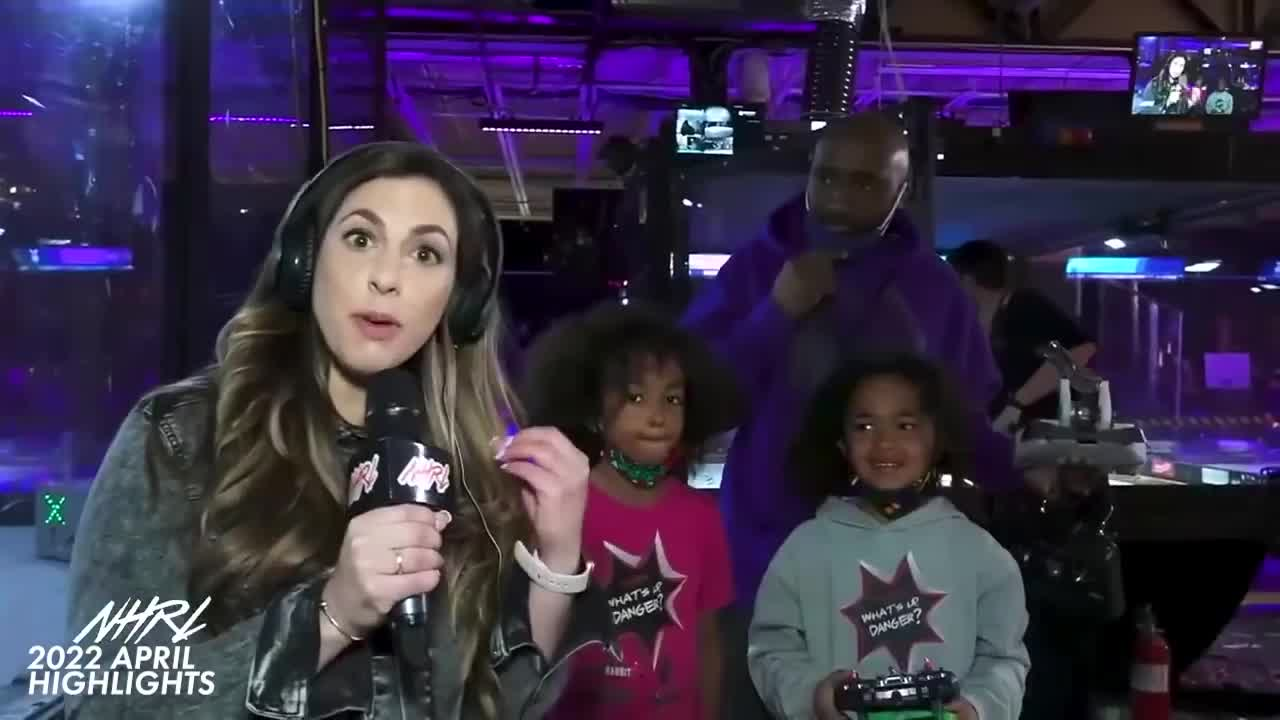combatbot: (1010, 376, 1147, 479)
